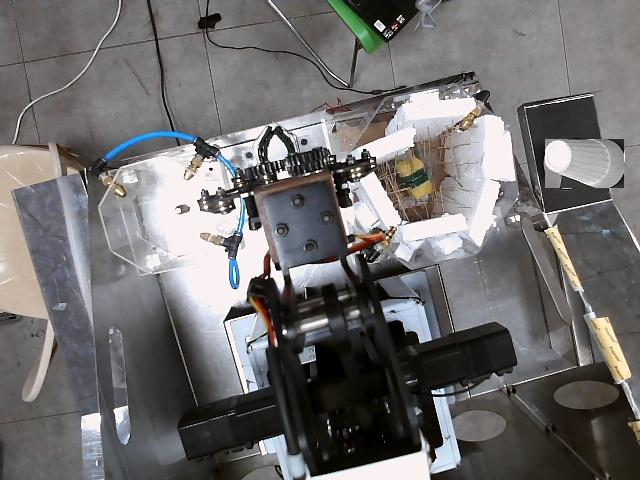cup: (545, 139, 624, 188)
